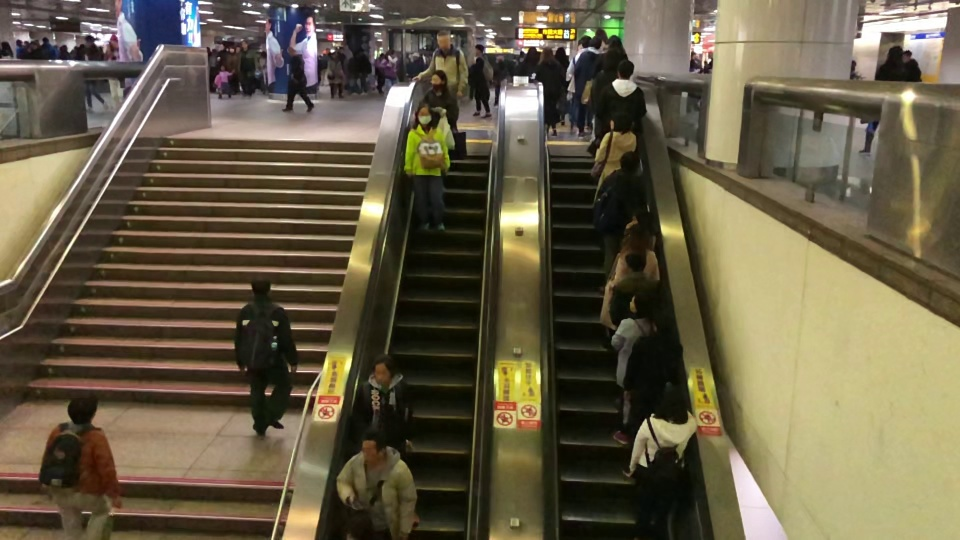person_head: (655, 381, 687, 417), (65, 392, 98, 426), (360, 427, 387, 466), (344, 512, 375, 540), (371, 354, 396, 386), (625, 223, 653, 251), (627, 290, 653, 317), (617, 149, 641, 175), (653, 311, 676, 338), (601, 47, 624, 74), (623, 251, 647, 276), (631, 208, 654, 230), (609, 111, 632, 133), (615, 58, 634, 80), (416, 102, 434, 125), (250, 278, 271, 297), (430, 70, 448, 92), (435, 30, 452, 51), (887, 45, 903, 62), (587, 35, 603, 51), (424, 89, 437, 108), (606, 34, 622, 49), (539, 47, 554, 62), (578, 34, 591, 50), (553, 46, 566, 61), (525, 46, 537, 61), (108, 34, 118, 49), (384, 49, 395, 60), (474, 44, 484, 56), (902, 50, 912, 61), (84, 35, 94, 46), (287, 46, 296, 57), (29, 40, 40, 49), (0, 41, 10, 50), (495, 56, 503, 66), (59, 43, 67, 53), (240, 40, 248, 49), (228, 45, 236, 54), (259, 51, 267, 59), (15, 39, 23, 47), (357, 46, 364, 55), (331, 50, 338, 59), (219, 63, 226, 72), (41, 36, 50, 43), (210, 47, 217, 55), (707, 51, 713, 60), (352, 51, 358, 60), (219, 42, 225, 51), (690, 51, 696, 59), (338, 46, 344, 54), (518, 51, 524, 58), (235, 45, 241, 52), (379, 52, 384, 60), (322, 49, 327, 56)
person_vbox: (37, 392, 122, 540), (623, 381, 698, 540), (233, 278, 298, 438), (620, 312, 683, 477), (334, 427, 418, 540), (595, 149, 649, 297), (610, 290, 657, 444), (352, 354, 415, 464), (403, 102, 451, 232), (857, 44, 908, 156), (592, 110, 637, 206), (608, 251, 664, 327), (596, 58, 647, 139), (411, 30, 469, 96), (573, 35, 603, 139), (611, 223, 661, 282), (565, 35, 591, 132), (533, 47, 561, 137), (589, 47, 624, 117), (422, 69, 459, 129), (281, 46, 314, 113), (80, 35, 108, 113), (424, 88, 455, 152), (469, 44, 492, 118), (620, 208, 657, 251), (103, 34, 123, 111), (554, 46, 570, 125), (236, 40, 257, 98), (378, 48, 400, 97), (685, 50, 702, 113), (326, 50, 345, 99), (225, 45, 241, 95), (519, 46, 539, 82), (492, 56, 506, 107), (216, 63, 235, 99), (902, 50, 922, 81), (357, 46, 368, 95), (347, 51, 358, 96), (208, 47, 218, 94), (374, 52, 384, 94), (25, 40, 47, 59), (41, 36, 59, 59), (258, 51, 267, 95), (319, 49, 329, 86), (513, 51, 524, 76), (57, 43, 73, 59), (0, 40, 13, 59), (702, 51, 713, 73), (217, 42, 227, 63), (14, 39, 23, 59), (338, 46, 345, 65)
